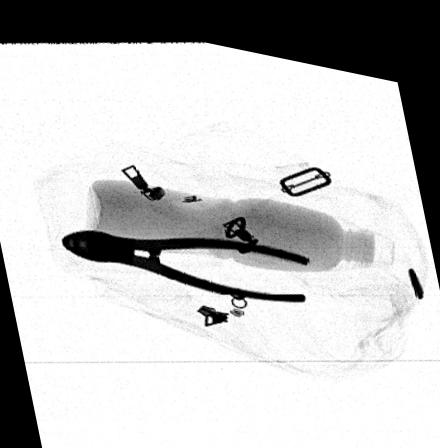Pliers: (56, 226, 310, 289)
